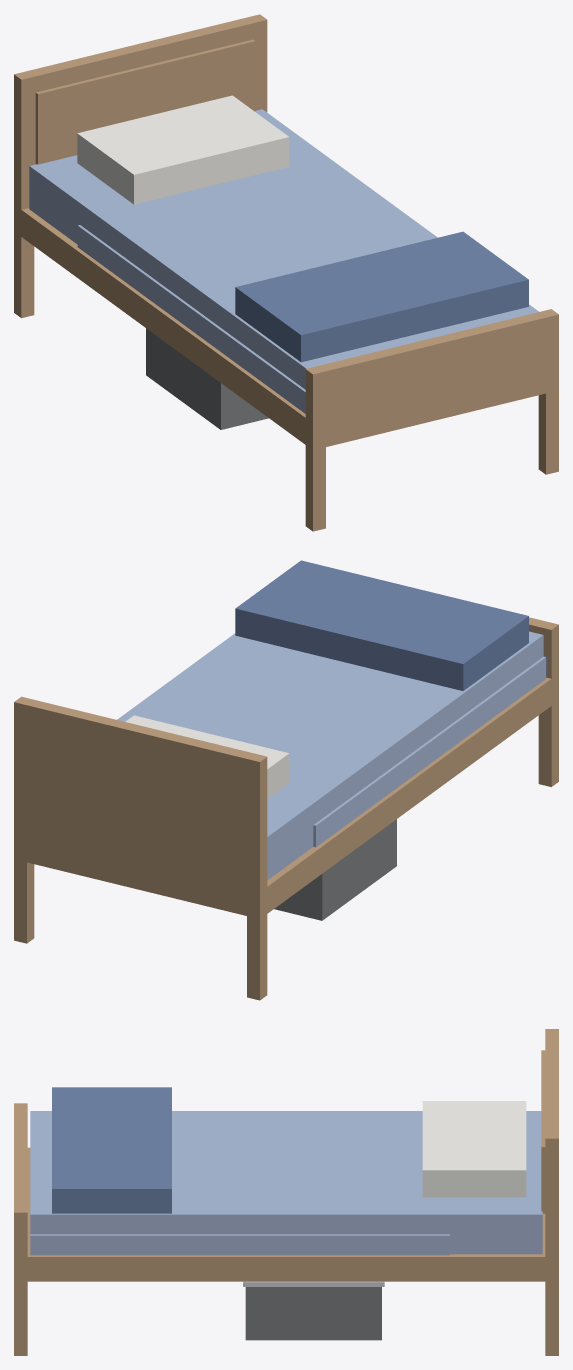
The model's file is Hostel_Bed.fbx.
3 views of the same model, one above another, from view 1: azimuth 30°, elevation 25°; view 2: azimuth 150°, elevation 25°; view 3: azimuth 270°, elevation 25° (orthographic). The views are drawn at different scales.
Parts seen in each view (by area): view 1: Hostel_Bed; view 2: Hostel_Bed; view 3: Hostel_Bed.
Boxes of the visible parts, box(x1,y1,x2,y2) form: Hostel_Bed: box(14, 14, 558, 531); Hostel_Bed: box(14, 560, 558, 1000); Hostel_Bed: box(14, 1029, 558, 1355).
Size of the model in its own units: 0.95 by 0.88 by 2.
